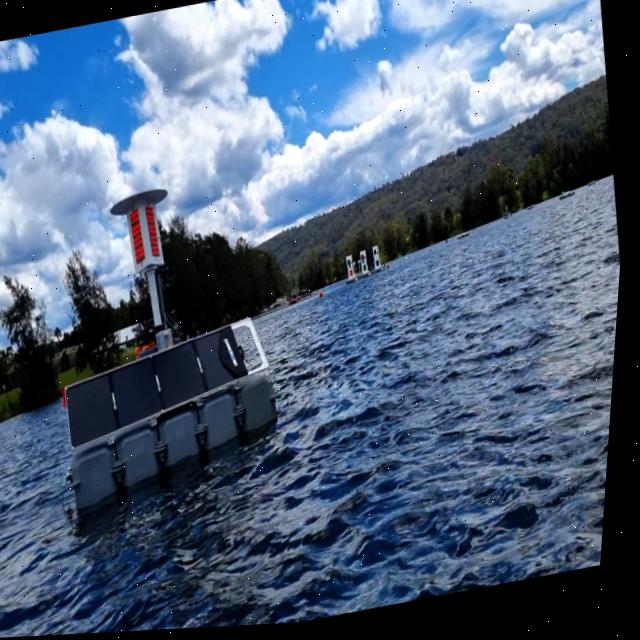led: (144, 206, 166, 264), (130, 212, 153, 266)
